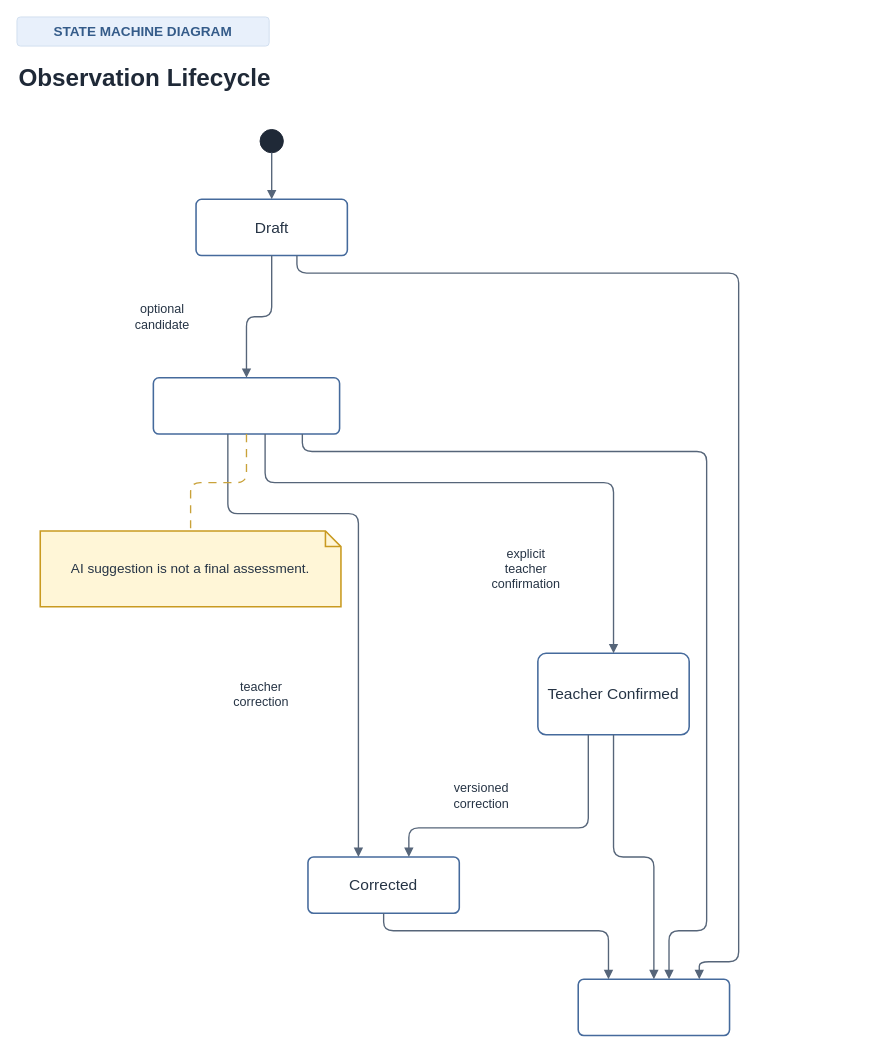
The diagram is 876 pixels wide and 1053 high, and some of its shapes have lost their labels. The shapes that lost their labels are listed below. From the top down, each one's box as (x1, y1, x2, y2) in pixels, then its label:
(152, 377, 340, 434): Ai Suggested
(577, 978, 730, 1036): Withdrawn
